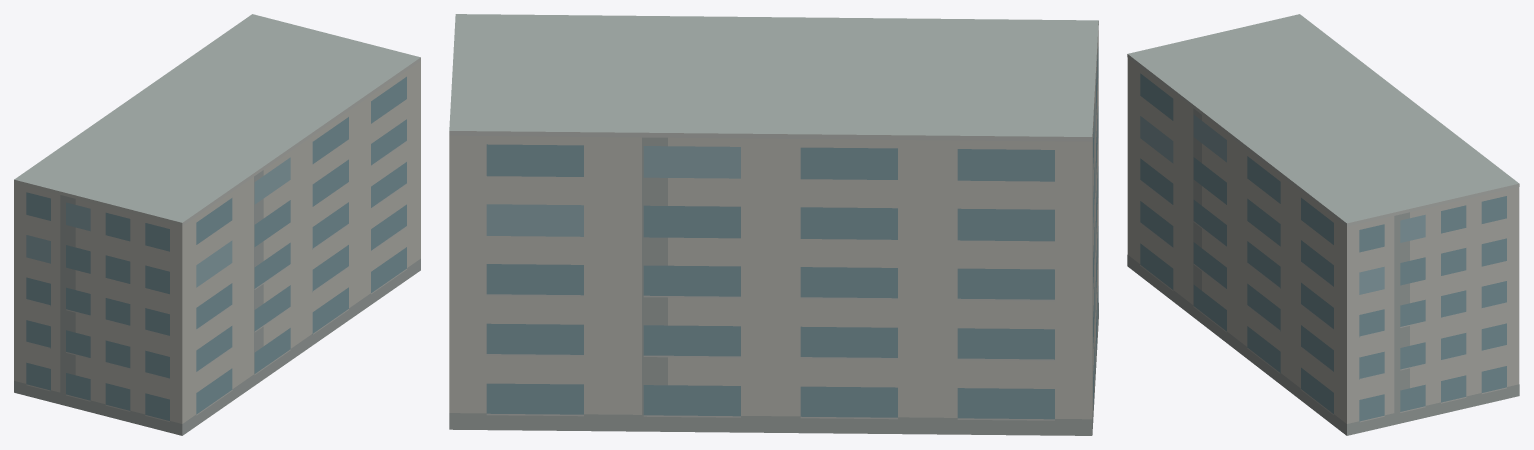
The model's file is residential-ac0bac5b-3e9b-4048-a0a0-222b7b31e4b7.glb.
3 views of the same model, side by side, from view 1: azimuth 30°, elevation 25°; view 2: azimuth 150°, elevation 25°; view 3: azimuth 270°, elevation 25° (orthographic). The views are drawn at different scales.
Parts seen in each view (by area): view 1: residential-ac0bac5b-3e9b-4048-a0a0-222b7b31e4b7.tmp; view 2: residential-ac0bac5b-3e9b-4048-a0a0-222b7b31e4b7.tmp; view 3: residential-ac0bac5b-3e9b-4048-a0a0-222b7b31e4b7.tmp.
Part boxes in pixels (x1=…): residential-ac0bac5b-3e9b-4048-a0a0-222b7b31e4b7.tmp: x1=14, y1=14, x2=420, y2=435; residential-ac0bac5b-3e9b-4048-a0a0-222b7b31e4b7.tmp: x1=449, y1=14, x2=1098, y2=435; residential-ac0bac5b-3e9b-4048-a0a0-222b7b31e4b7.tmp: x1=1127, y1=14, x2=1519, y2=435.
Size of the model in its own units: 32.25 by 15.25 by 25.5.
